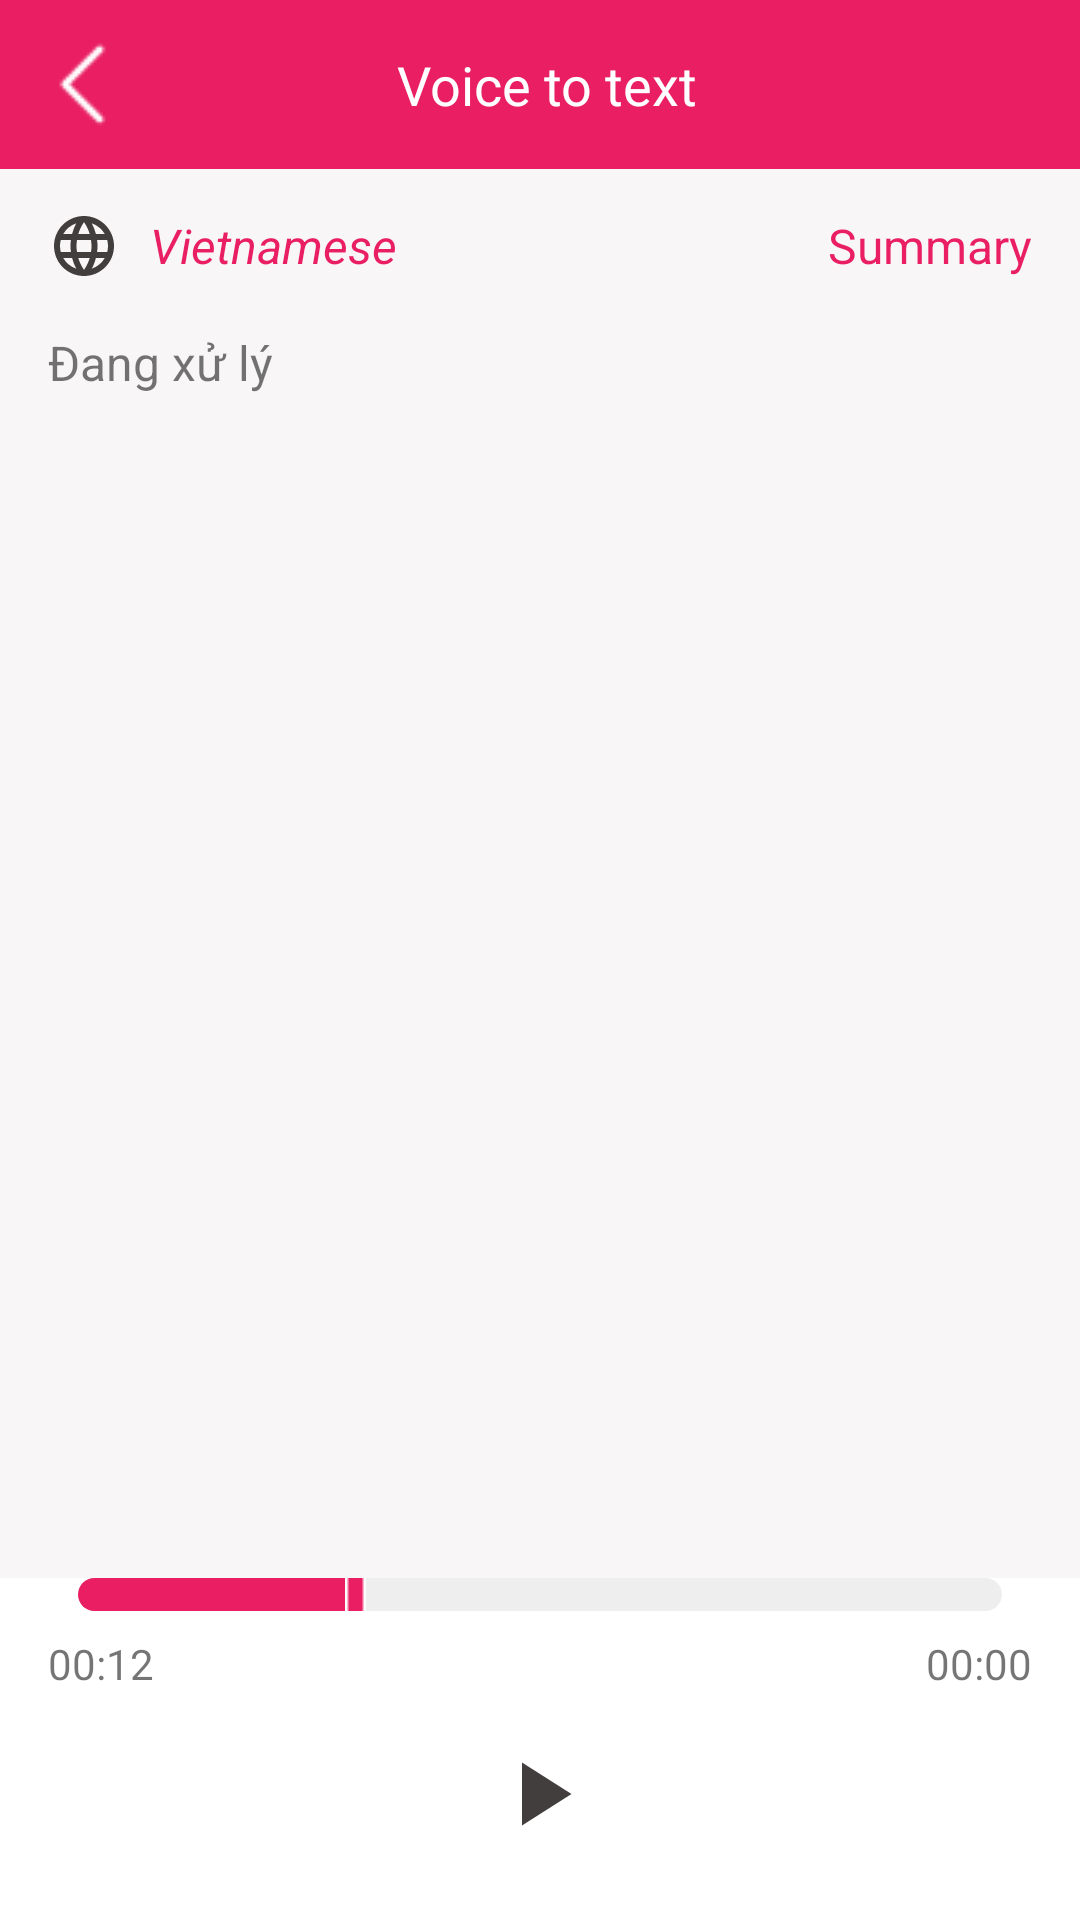

Screen size 1080×1920. Icon name, then its center in pixels as point (x, y):
back: point (82, 84)
global: point (84, 246)
play: point (546, 1794)
